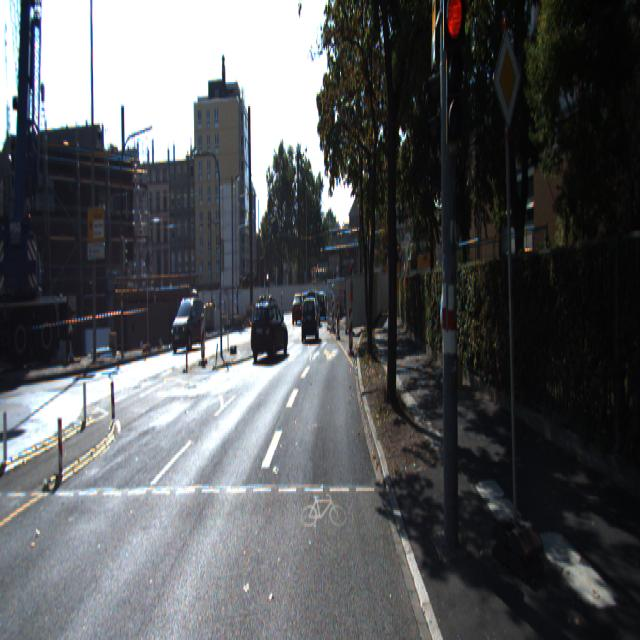Car: (248, 294, 289, 358), (170, 292, 206, 349), (300, 290, 318, 339), (292, 291, 306, 323)
DontCare: (0, 0, 75, 389), (318, 279, 338, 329)
